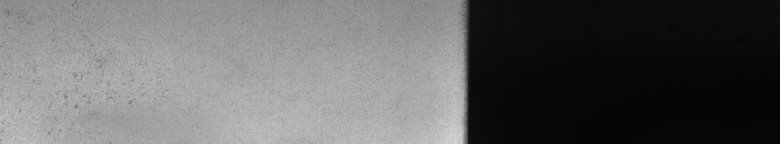ib: (5, 10, 136, 109)
